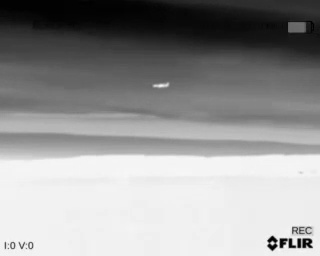AIRPLANE: (151, 79, 172, 91)
